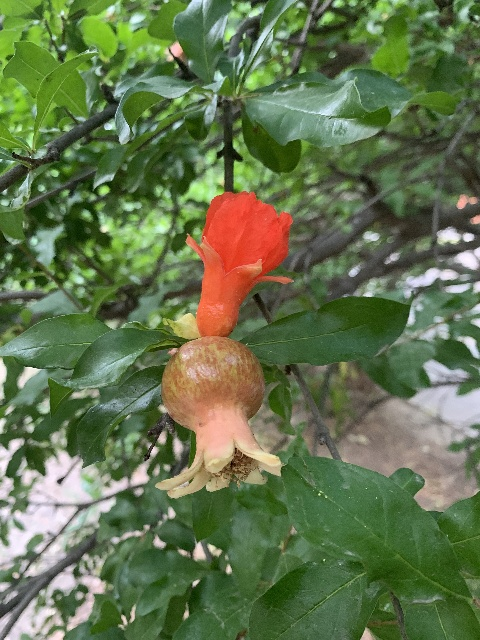early-fruit: (155, 336, 283, 496)
flower: (185, 190, 294, 338)
